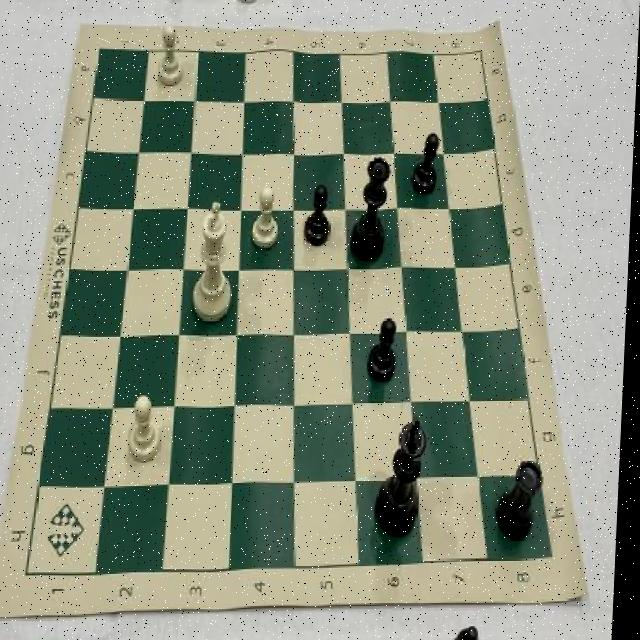black-bishop: (375, 411, 434, 546)
black-knight: (363, 309, 406, 389), (407, 126, 447, 200), (302, 183, 338, 254)
black-pawn: (346, 151, 395, 269)
black-queen: (493, 451, 550, 545)
white-bishop: (187, 198, 244, 326)
white-knight: (124, 389, 169, 465), (149, 21, 192, 90), (246, 180, 284, 253)
